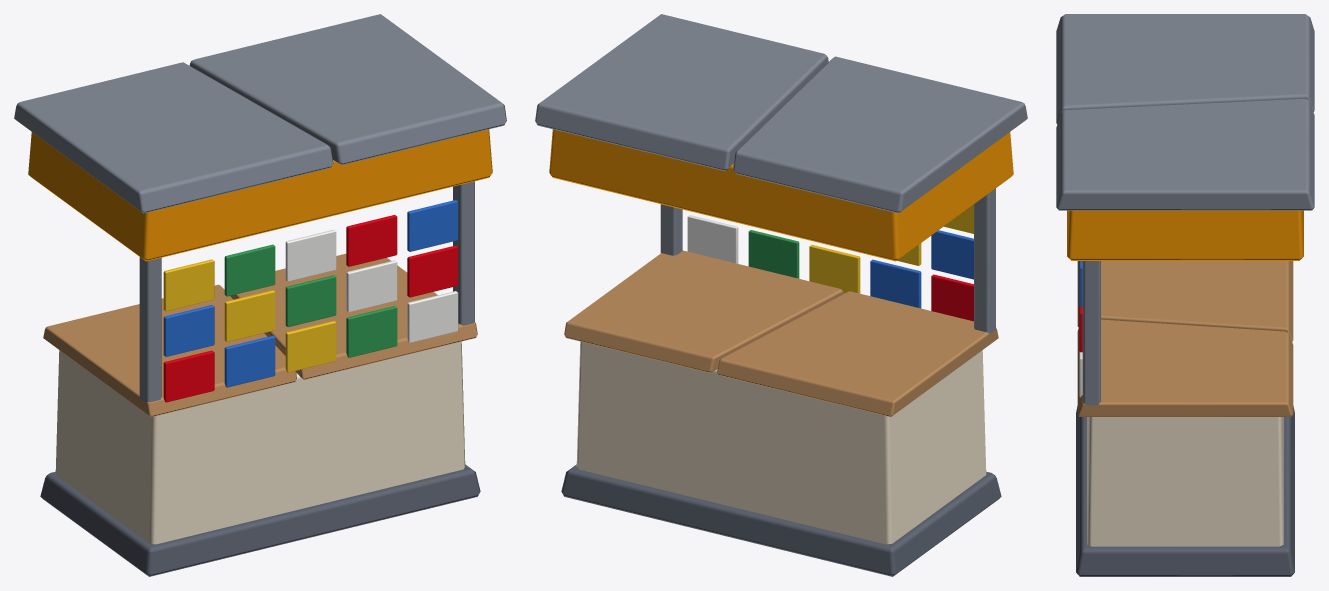
File: kiosk.glb
The picture shows the model from 3 angles, left to right: view 1: azimuth 30°, elevation 25°; view 2: azimuth 150°, elevation 25°; view 3: azimuth 270°, elevation 25°; orthographic projection.
Parts seen in each view (by area): view 1: kiosk; view 2: kiosk; view 3: kiosk.
Part boxes in pixels (x1,y1,x2,y2): kiosk: (14, 14, 506, 576); kiosk: (535, 14, 1027, 576); kiosk: (1056, 14, 1314, 576).
Bounding box in the file's own units: 2.53 × 2.61 × 1.55.
